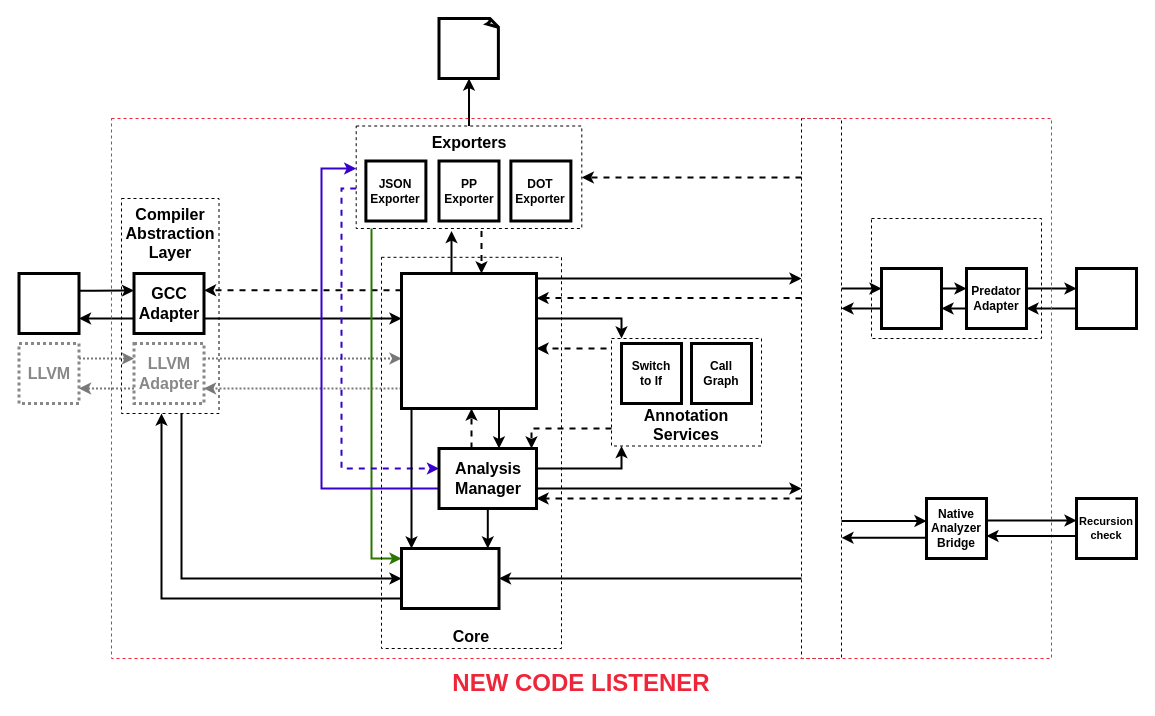
Some shapes in this 1155 by 716 pixel diagram are drawn without their labels. The box of each missing label's shape, as (x1, y1, x2, y2) in pixels:
Code Model: (400, 272, 538, 410)
Diagnostic Reporter: (400, 546, 500, 610)
GCC: (17, 272, 80, 334)
Legacy Predator Bridge: (880, 266, 942, 330)
Predator: (1074, 266, 1138, 330)
Predator Compatibility Layer: (870, 218, 1042, 338)
Public API: (800, 118, 842, 658)
Requested Exporter Output: (437, 16, 500, 80)
